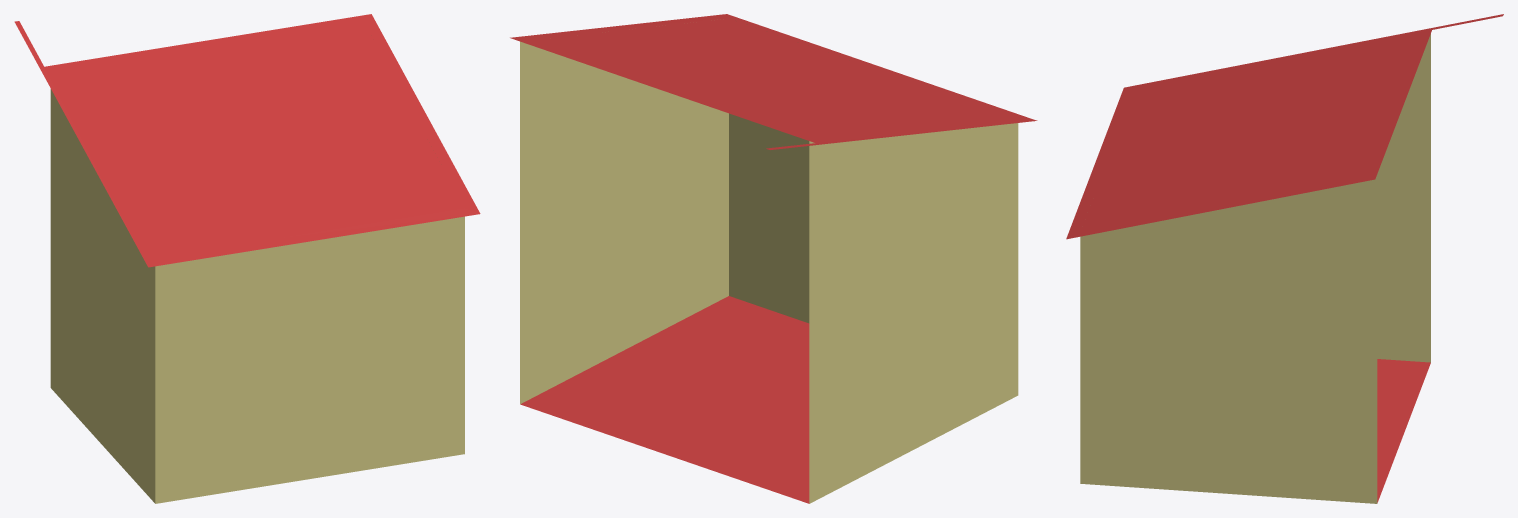
3 renders of one model, left to right at view 1: azimuth 30°, elevation 25°; view 2: azimuth 150°, elevation 25°; view 3: azimuth 270°, elevation 25°, orthographic. The views are drawn at different scales.
Size of the model in its own units: 8.24 by 8.82 by 7.74.
